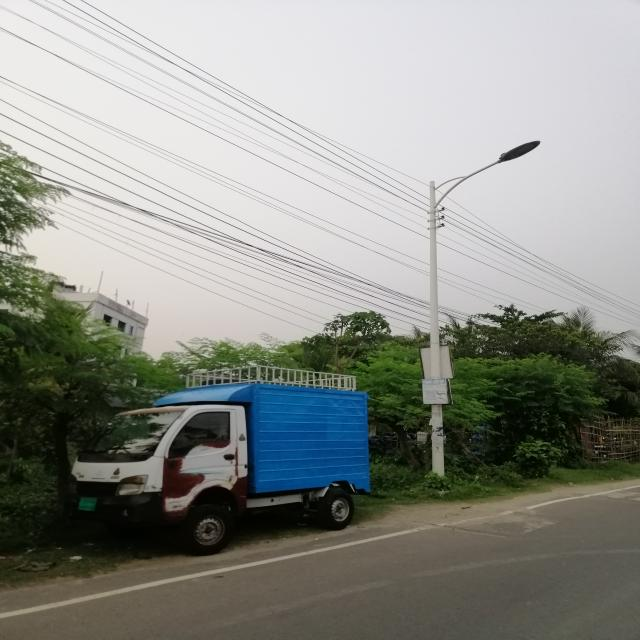Pick-up-van: (43, 353, 401, 571)
